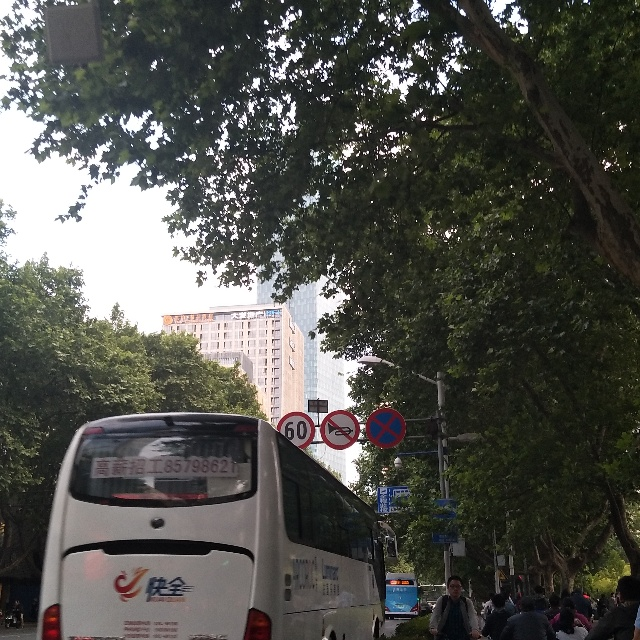nohonk: (320, 410, 360, 450)
stop: (366, 409, 407, 448)
